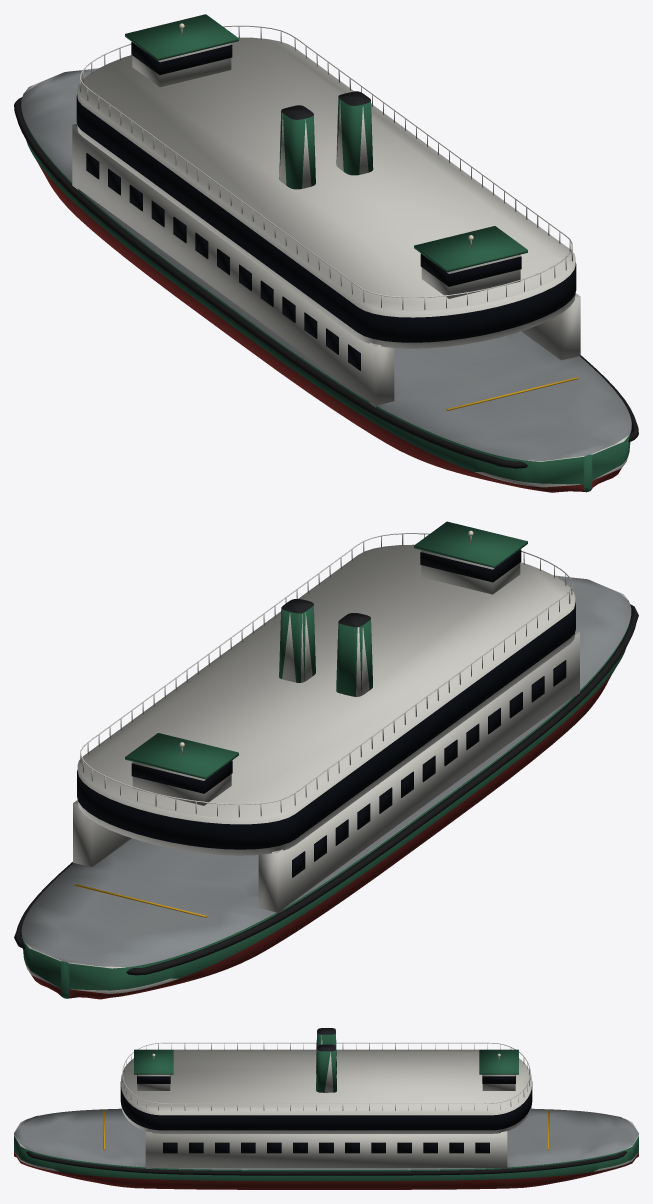
Rendered from ferry_lod0.glb.
3 views of the same model, one above another, from view 1: azimuth 30°, elevation 25°; view 2: azimuth 150°, elevation 25°; view 3: azimuth 270°, elevation 25° (orthographic). The views are drawn at different scales.
Parts seen in each view (by area): view 1: Double_Ended_Ferry; view 2: Double_Ended_Ferry; view 3: Double_Ended_Ferry.
Boxes of the visible parts, x1=… form: Double_Ended_Ferry: x1=14, y1=14, x2=638, y2=492; Double_Ended_Ferry: x1=14, y1=521, x2=638, y2=999; Double_Ended_Ferry: x1=14, y1=1028, x2=638, y2=1189.
Size of the model in its own units: 13.18 by 11.91 by 52.
